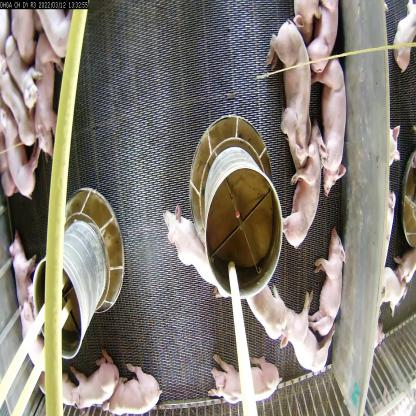Pig: (260, 11, 313, 172), (279, 125, 333, 253), (165, 203, 229, 304), (314, 43, 355, 199), (274, 296, 334, 388), (207, 333, 281, 406), (41, 340, 117, 411), (314, 219, 347, 357), (0, 95, 39, 206), (7, 238, 45, 350), (244, 268, 294, 344), (101, 365, 170, 415), (30, 36, 56, 164), (309, 1, 338, 78), (290, 0, 320, 39)
